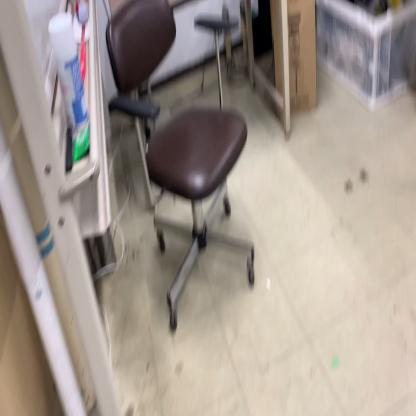chair: (105, 1, 257, 333)
